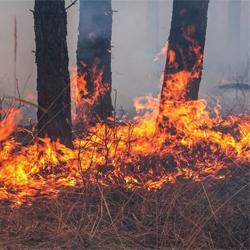fire: (149, 97, 207, 141), (3, 146, 66, 174), (94, 129, 151, 159)
